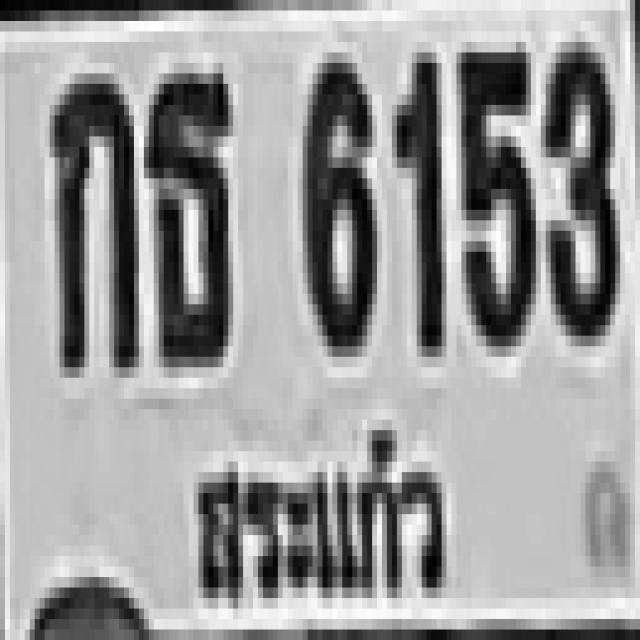1: (392, 42, 437, 346)
10GorGai: (50, 63, 134, 367)
3: (541, 31, 615, 336)
33ThorThong: (144, 63, 228, 357)
5: (456, 42, 531, 336)
6: (298, 47, 372, 341)
SaKaeo: (188, 411, 458, 626)
